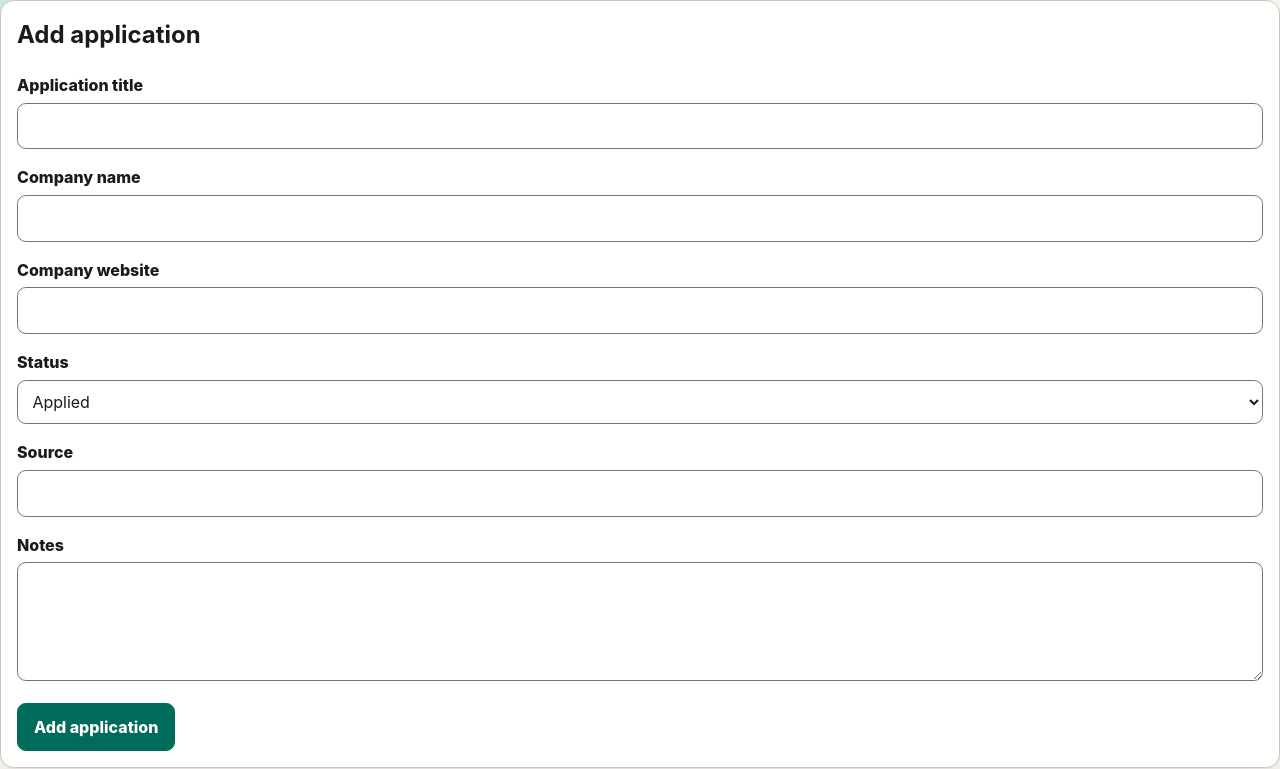
it: ApplicationForm › shows validation when the title is missing
The image size is (1280, 769).
Type "Example Studio" into the field labelled "Company name". click: (640, 218)
box: left=17, top=195, right=1263, bottom=242
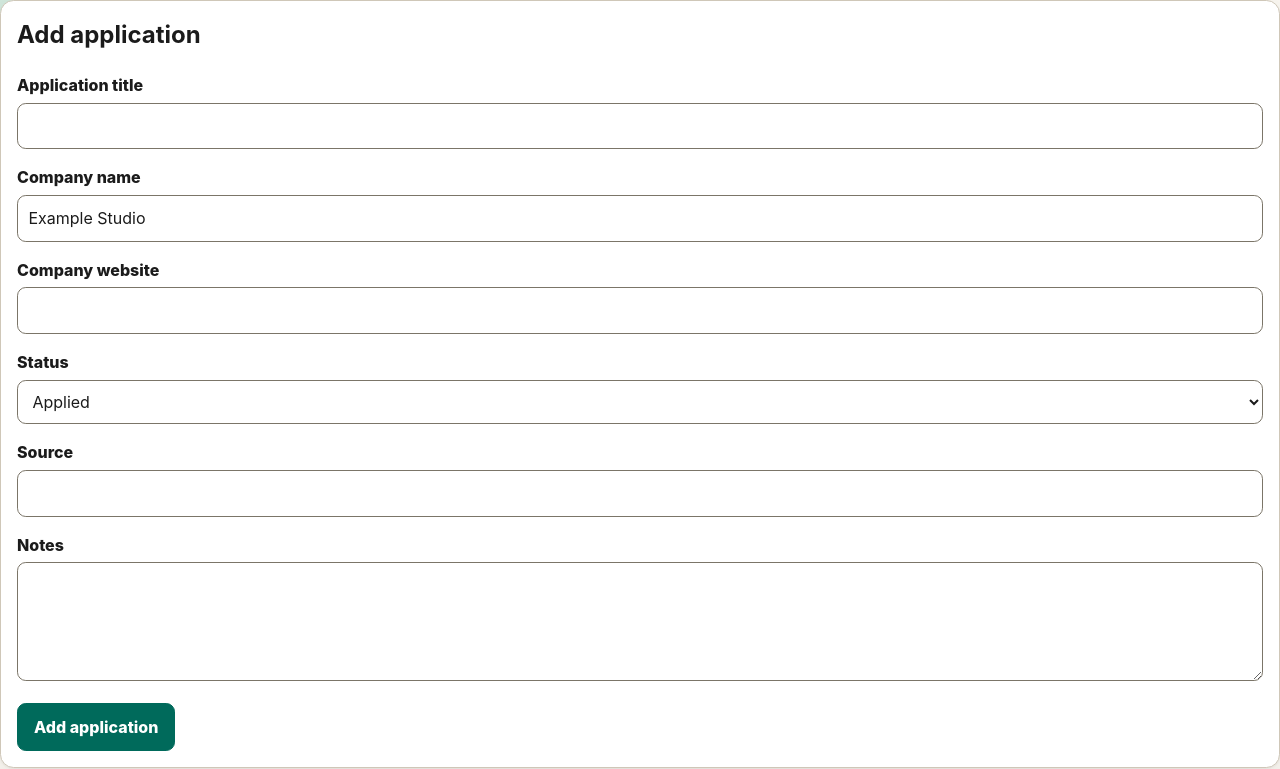
Click the button "Add application". click: click(96, 727)
box: left=17, top=703, right=175, bottom=751
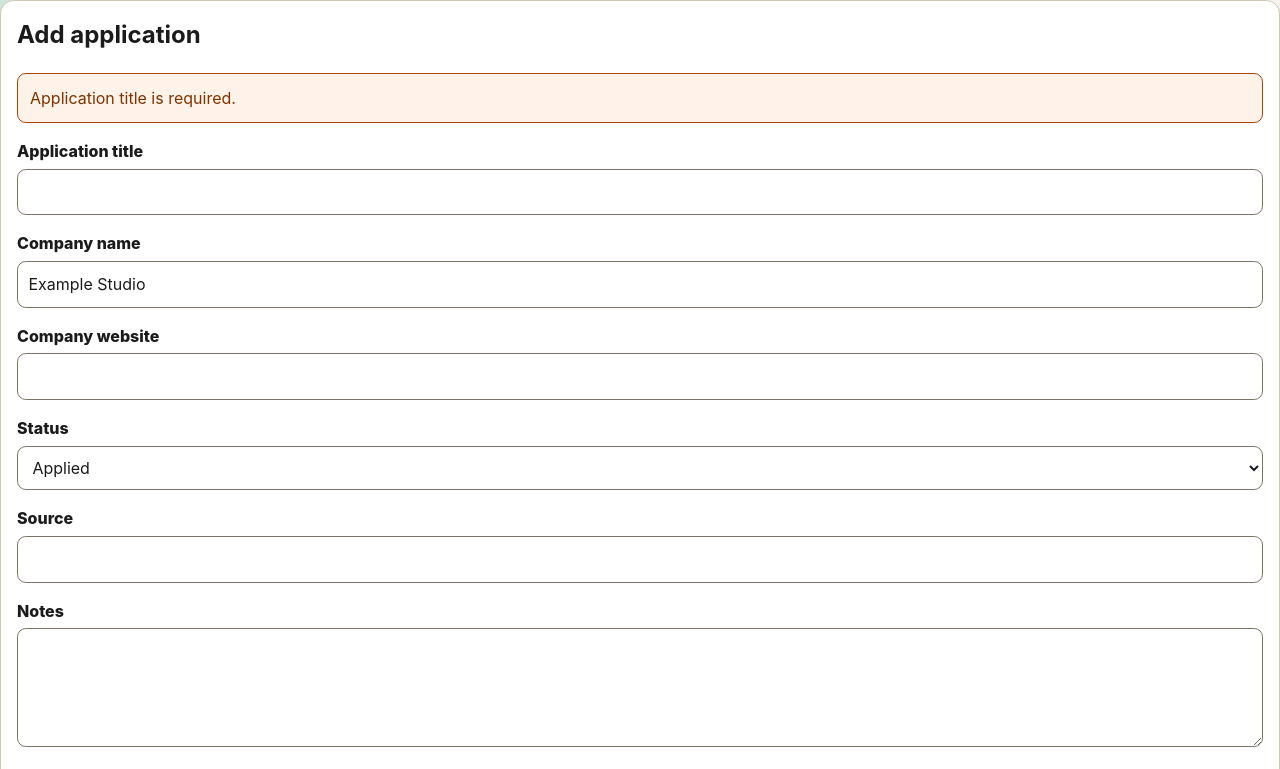
Expected: the message reads "Application title is required.", left=30, top=88, right=236, bottom=108
